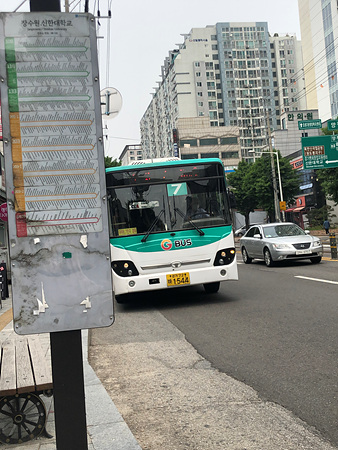bnum: (169, 181, 185, 195)
